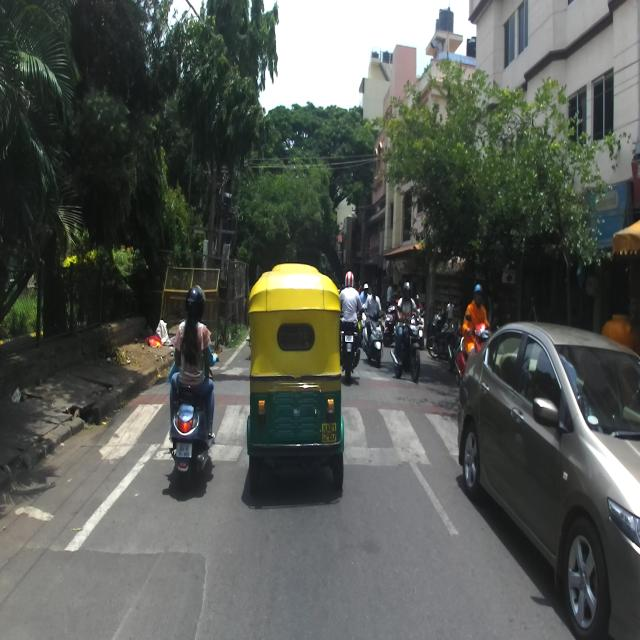auto ahead at: (242, 262, 348, 488)
car ahead at: (453, 324, 640, 637)
motorcycle ahead at: (168, 392, 217, 493)
